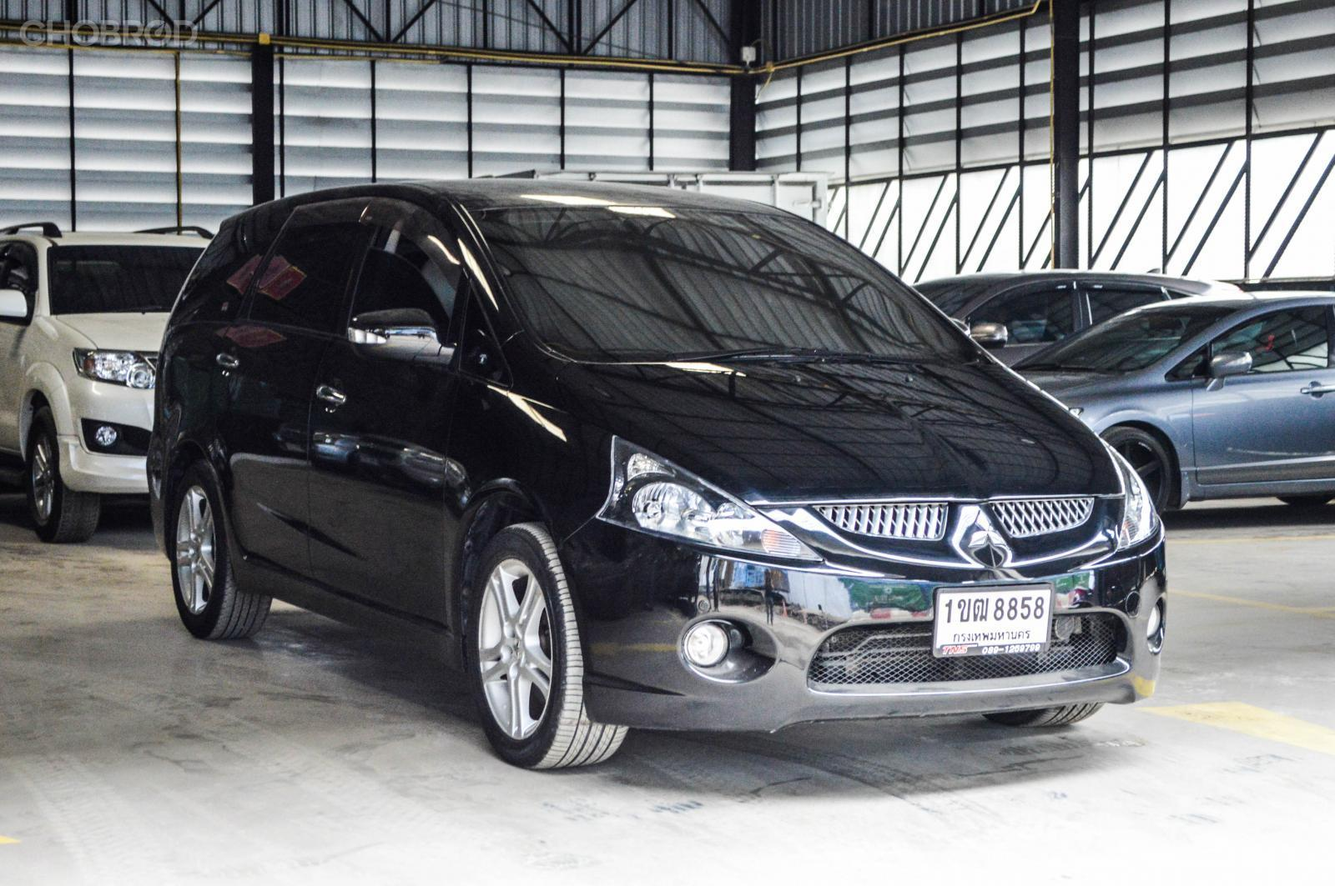license-plate: (931, 581, 1055, 662)
